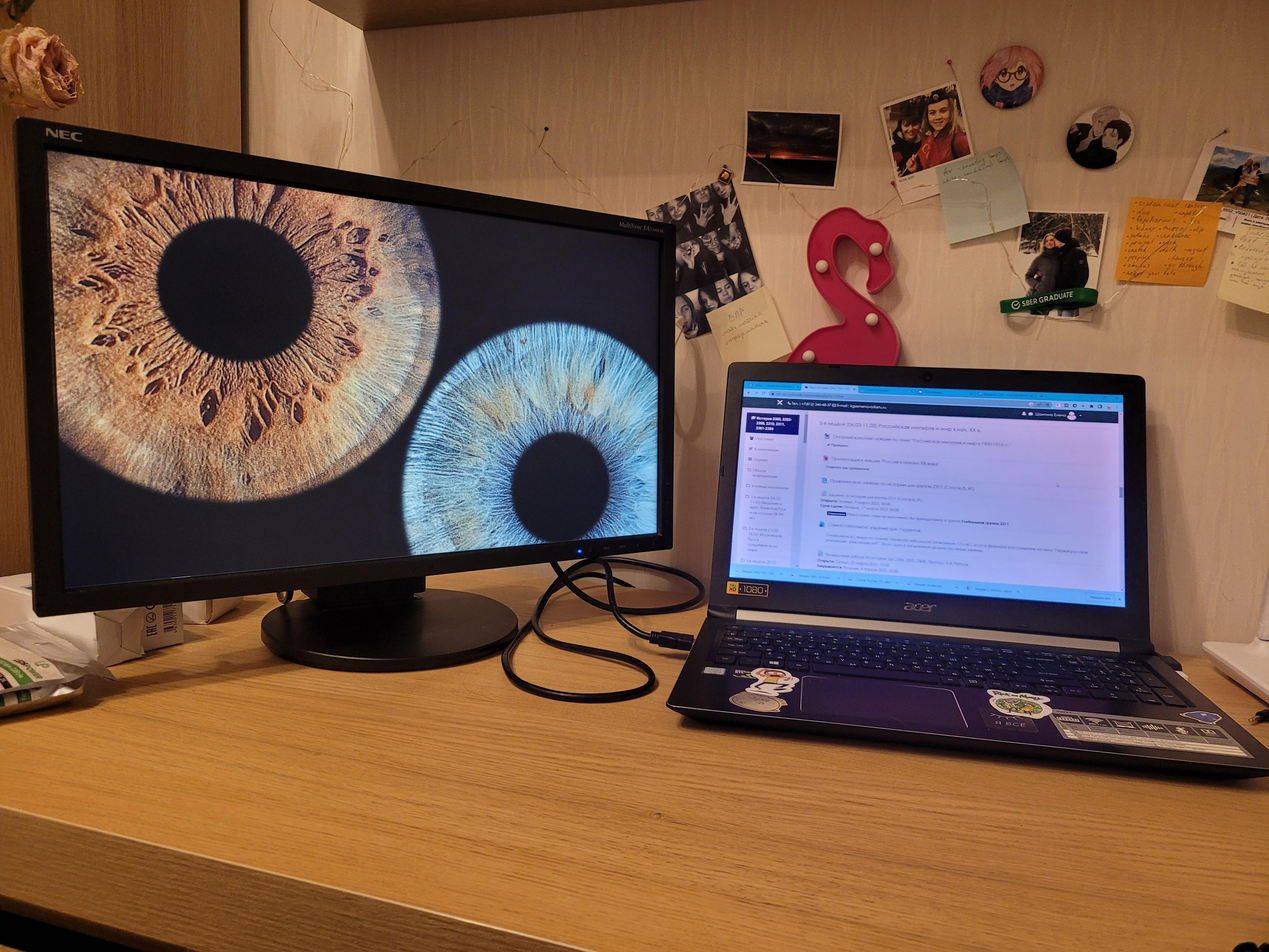monitor: (0, 112, 680, 622), (707, 356, 1153, 653)
